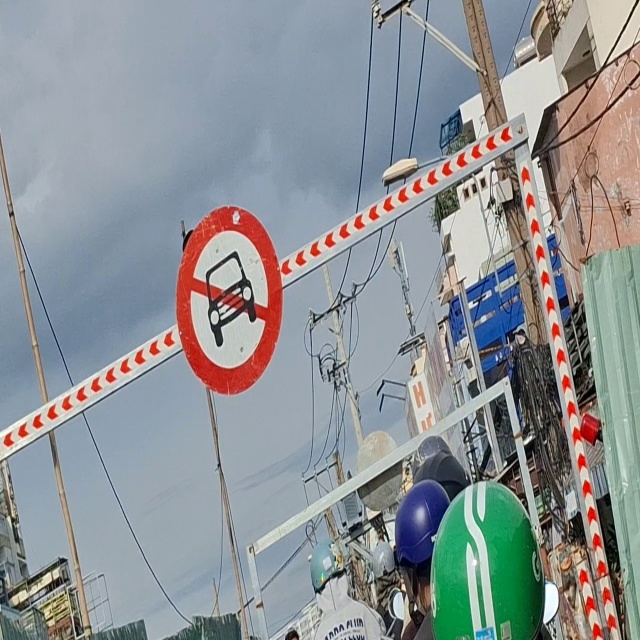cam oto: (172, 201, 290, 405)
